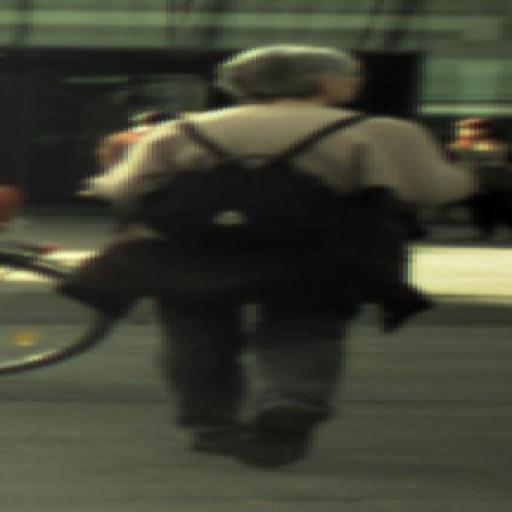person: (66, 40, 511, 490)
